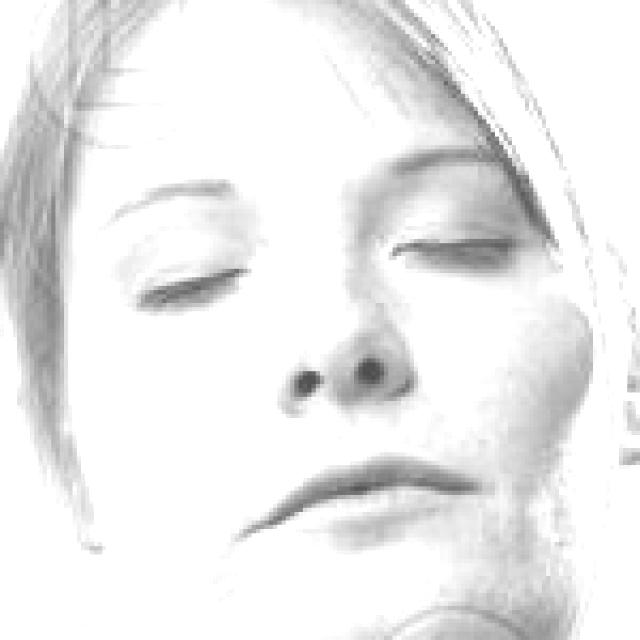real: (50, 37, 567, 621), (124, 191, 544, 320)
